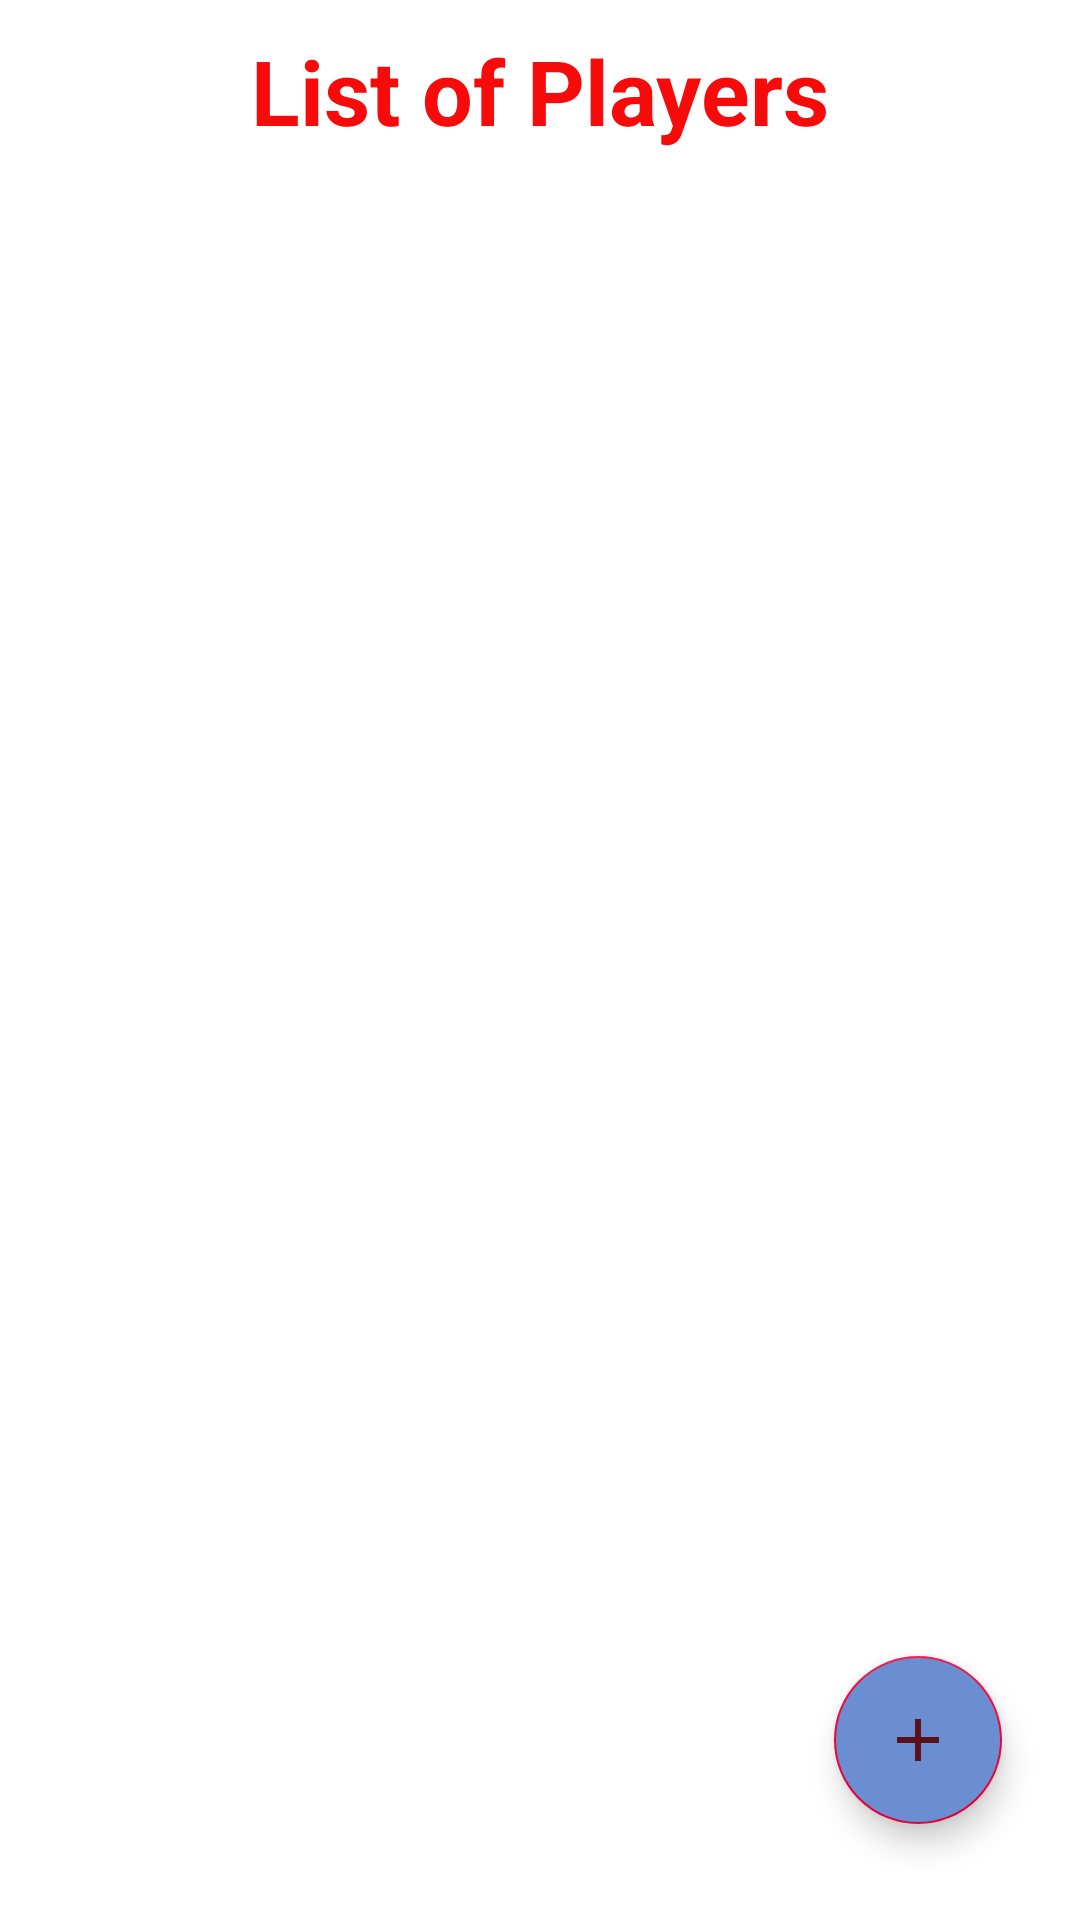

Icons on this 1080 × 1920 Android screen, each with the point to tap as (x=x, y=y):
add: (x=918, y=1740)
